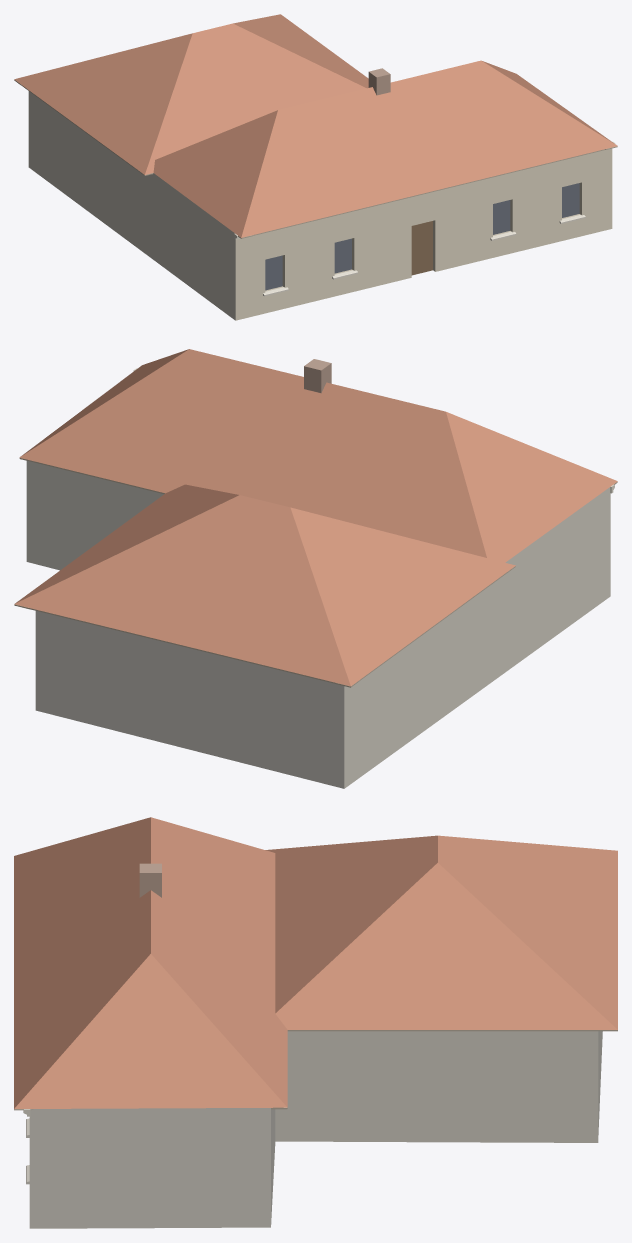
The picture shows the model from 3 angles, top to bottom: view 1: azimuth 30°, elevation 25°; view 2: azimuth 150°, elevation 25°; view 3: azimuth 270°, elevation 25°; orthographic projection. The views are drawn at different scales.
Parts seen in each view (by area): view 1: CP_257_Masonry, CP_257_Roof, CP_257_WingRoof_Rear_Wing, CP_257_Roof_EaveClosure_0, CP_257_Chimney_0; view 2: CP_257_Masonry, CP_257_Roof, CP_257_WingRoof_Rear_Wing, CP_257_Chimney_0, CP_257_WingRoof_Rear_Wing_EaveClosure_2; view 3: CP_257_Roof, CP_257_Masonry, CP_257_WingRoof_Rear_Wing, CP_257_Chimney_0, CP_257_WingRoof_Rear_Wing_EaveClosure_1.
Boxes of the visible parts, x1=… form: CP_257_Masonry: x1=28, y1=91, x2=612, y2=320; CP_257_Roof: x1=153, y1=60, x2=617, y2=237; CP_257_WingRoof_Rear_Wing: x1=14, y1=14, x2=368, y2=174; CP_257_Roof_EaveClosure_0: x1=238, y1=149, x2=605, y2=238; CP_257_Chimney_0: x1=368, y1=68, x2=390, y2=95; CP_257_Masonry: x1=26, y1=461, x2=610, y2=788; CP_257_Roof: x1=19, y1=349, x2=617, y2=562; CP_257_WingRoof_Rear_Wing: x1=14, y1=484, x2=515, y2=686; CP_257_Chimney_0: x1=304, y1=359, x2=331, y2=393; CP_257_WingRoof_Rear_Wing_EaveClosure_2: x1=29, y1=608, x2=359, y2=687; CP_257_Roof: x1=14, y1=817, x2=287, y2=1108; CP_257_Masonry: x1=29, y1=1031, x2=602, y2=1228; CP_257_WingRoof_Rear_Wing: x1=265, y1=835, x2=617, y2=1029; CP_257_Chimney_0: x1=139, y1=863, x2=161, y2=897; CP_257_WingRoof_Rear_Wing_EaveClosure_1: x1=287, y1=1030, x2=617, y2=1031.
Size of the model in its own units: 19.48 by 8.2 by 19.2.
